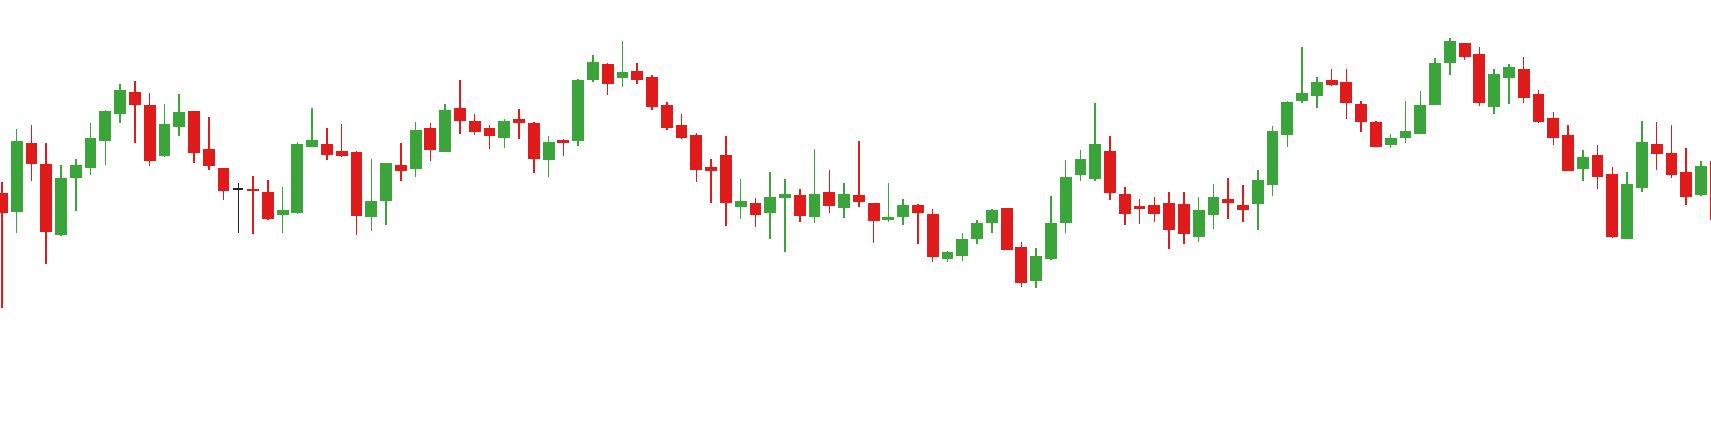buy: (924, 225, 1045, 288)
sell: (1296, 35, 1469, 114)
